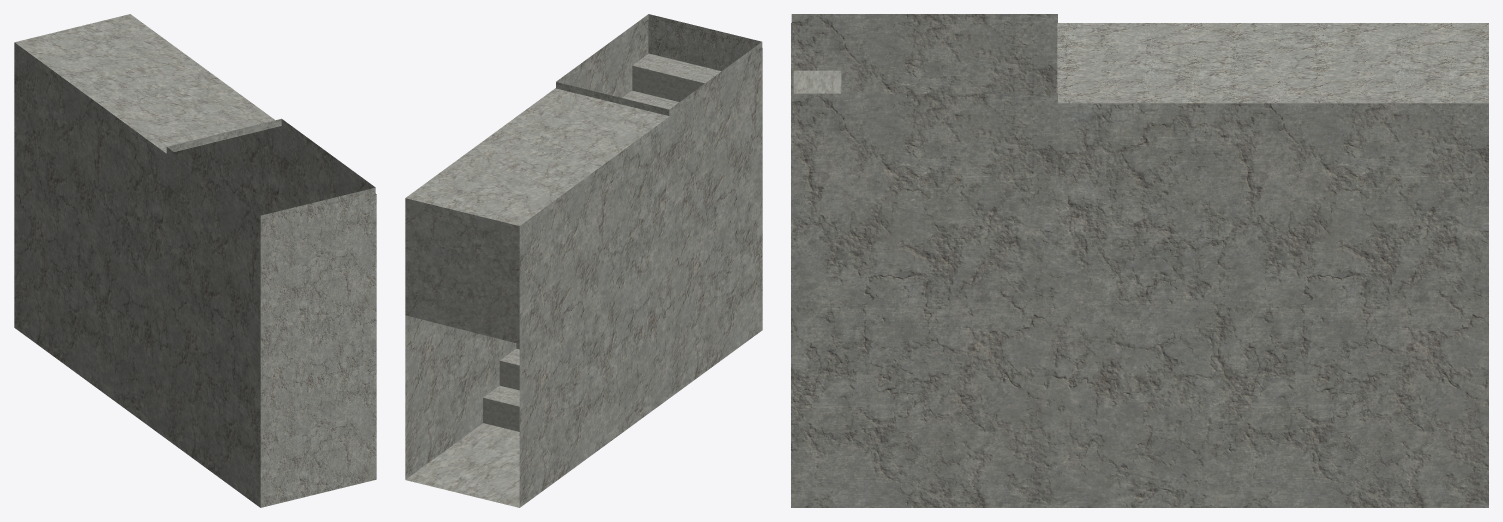
The model's file is Corredor.obj.
3 renders of one model, left to right at view 1: azimuth 30°, elevation 25°; view 2: azimuth 150°, elevation 25°; view 3: azimuth 270°, elevation 25°, orthographic. The views are drawn at different scales.
Parts seen in each view (by area): view 1: Corredor:pCube12; view 2: Corredor:pCube12; view 3: Corredor:pCube12.
Part boxes in pixels (x1,y1,x2,y2): Corredor:pCube12: [14, 14, 376, 507]; Corredor:pCube12: [405, 14, 762, 507]; Corredor:pCube12: [791, 14, 1488, 507].
Size of the model in its own units: 7.96 by 19.16 by 29.26.
Materials: 1 (1 with a texture image).
